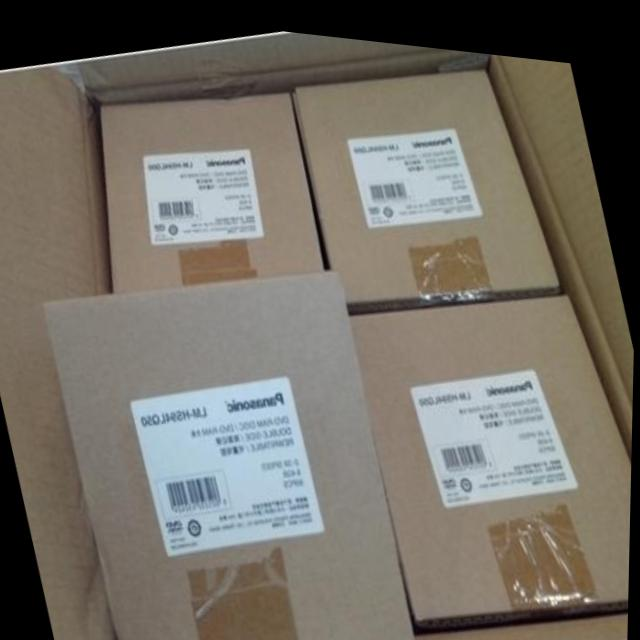box: (0, 26, 635, 640), (44, 262, 420, 640), (349, 279, 633, 619), (292, 58, 563, 302), (101, 86, 326, 290)
